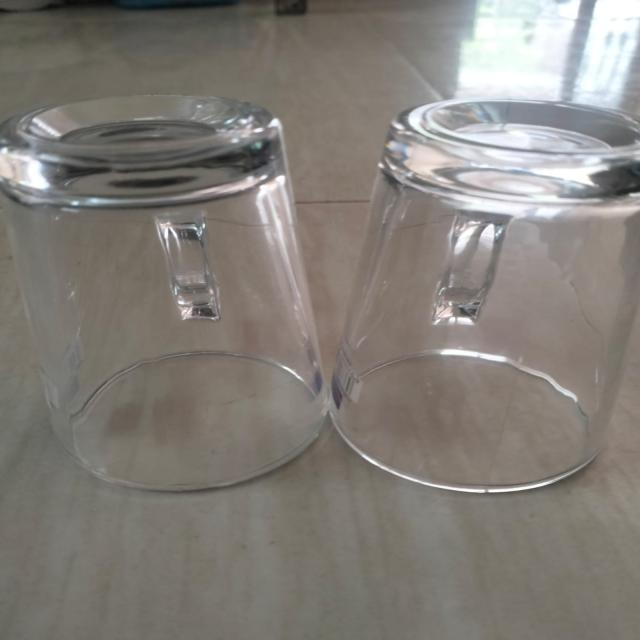glass-VX4N: (0, 84, 332, 496), (334, 94, 640, 495)
